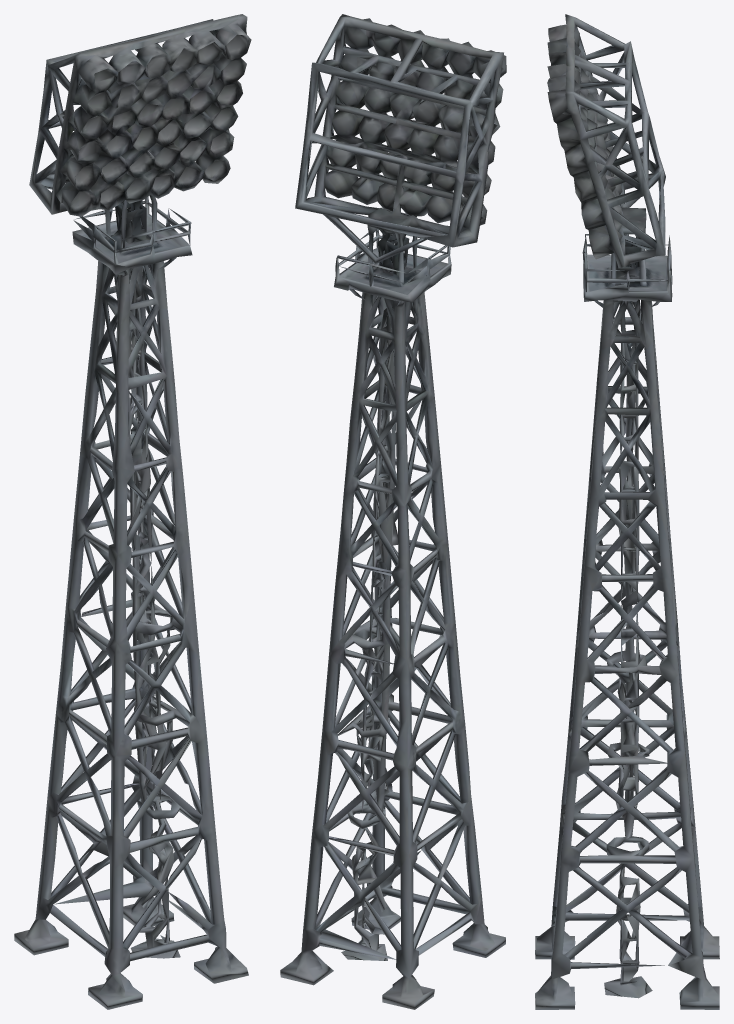
File: floodlight.glb
The picture shows the model from 3 angles, left to right: view 1: azimuth 30°, elevation 25°; view 2: azimuth 150°, elevation 25°; view 3: azimuth 270°, elevation 25°; orthographic projection. The views are drawn at different scales.
Parts seen in each view (by area): view 1: floodlight; view 2: floodlight; view 3: floodlight.
Boxes of the visible parts, x1,y1,x2,y2 form: floodlight: [14, 14, 251, 1009]; floodlight: [280, 14, 506, 1009]; floodlight: [535, 14, 719, 1009].
Size of the model in its own units: 8.6 by 46 by 8.34.
Materials: 1 (1 with a texture image).
